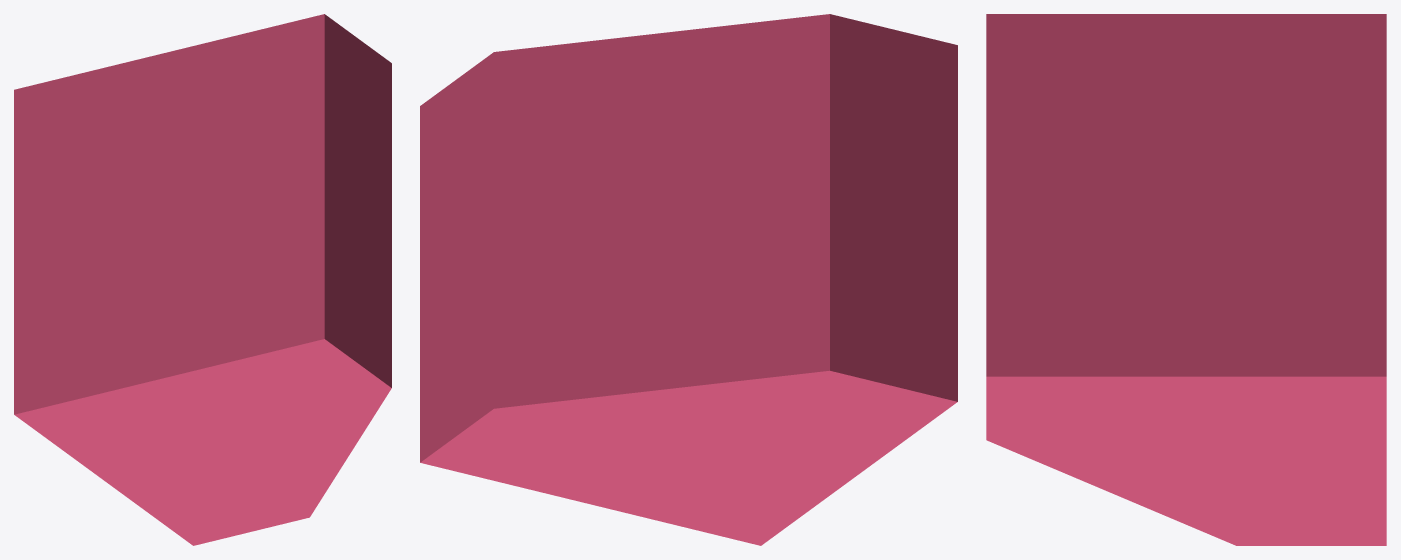
The model's file is r3c8_border_pink.gltf.
The picture shows the model from 3 angles, left to right: view 1: azimuth 30°, elevation 25°; view 2: azimuth 150°, elevation 25°; view 3: azimuth 270°, elevation 25°; orthographic projection. The views are drawn at different scales.
Parts seen in each view (by area): view 1: r3c8_border_pink; view 2: r3c8_border_pink; view 3: r3c8_border_pink.
Part boxes in pixels (x1,y1,x2,y2): r3c8_border_pink: (14,14,391,545); r3c8_border_pink: (420,14,957,545); r3c8_border_pink: (986,14,1386,545).
Size of the model in its own units: 2.1 by 2.1 by 2.1.
1 material, 1 textured.
